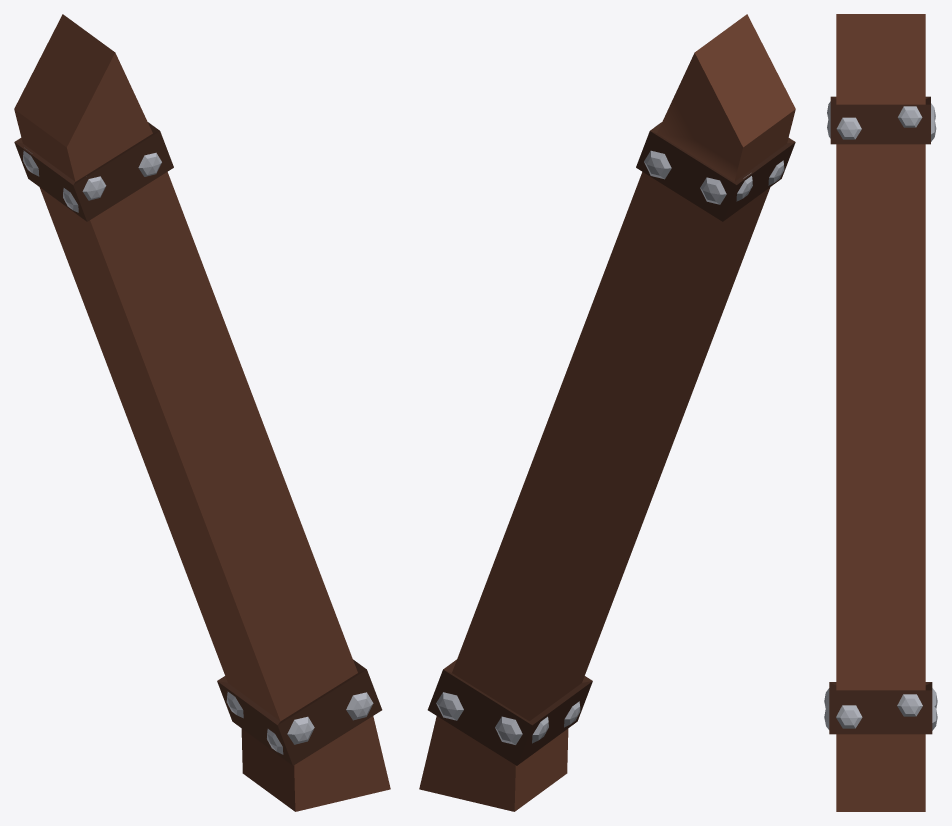
The model's file is ColumnaTorcida.fbx.
3 renders of one model, left to right at view 1: azimuth 30°, elevation 25°; view 2: azimuth 150°, elevation 25°; view 3: azimuth 270°, elevation 25°, orthographic. The views are drawn at different scales.
Visible parts, largest first — view 1: VigaTorcida; view 2: VigaTorcida; view 3: VigaTorcida.
Part boxes in pixels (box(x1,y1,x2,y2)): VigaTorcida: box(14, 14, 390, 811); VigaTorcida: box(419, 14, 795, 811); VigaTorcida: box(824, 14, 937, 811).
Bounding box in the file's own units: 3.03 × 7.19 × 1.08.
